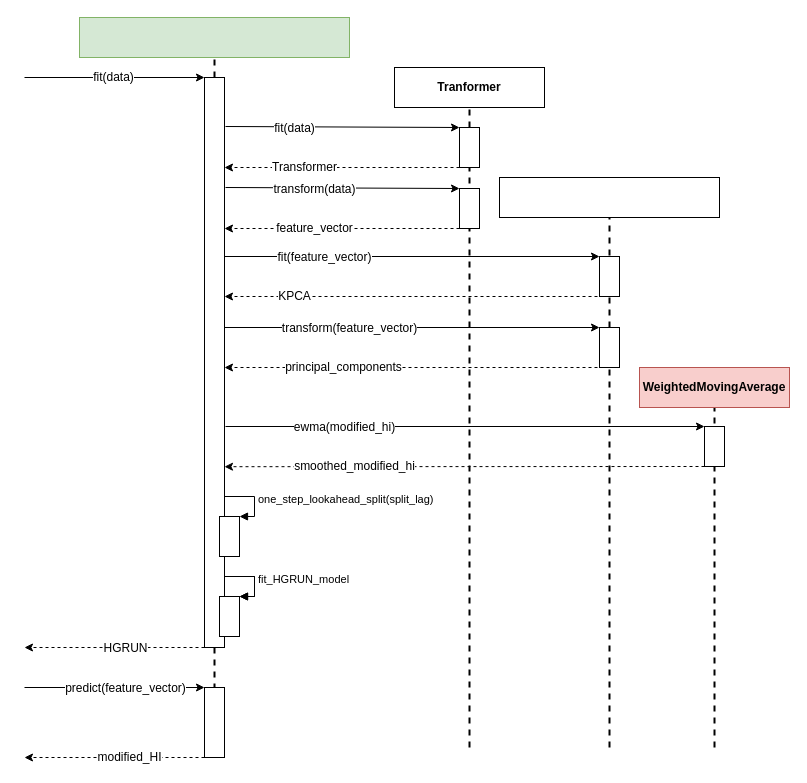
Some shapes in this 807 by 783 pixel diagram are drawn without their labels. Here are the shapes that lost their labels. From the top down, the centre of each, then its label:
the point at 214,37: HierarchicalGatedRecurrentUnitNetwork
the point at 609,197: sklearn.decomposition. KPCA
